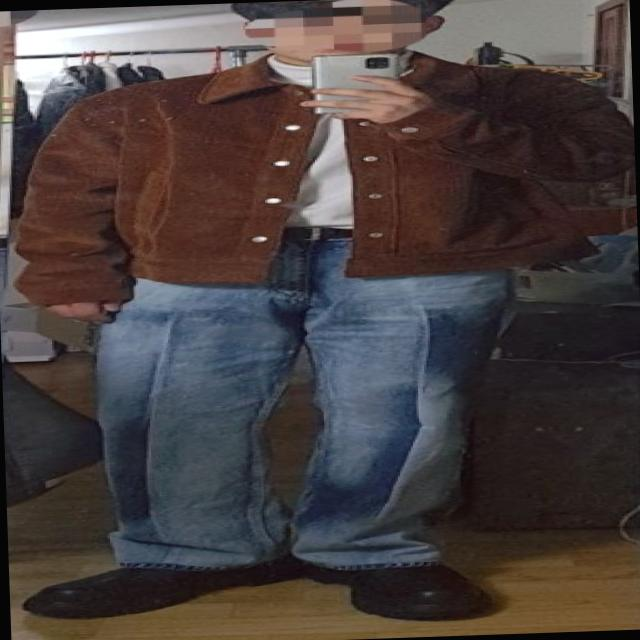denimpants: (80, 220, 526, 581)
jacket: (2, 36, 639, 306)
